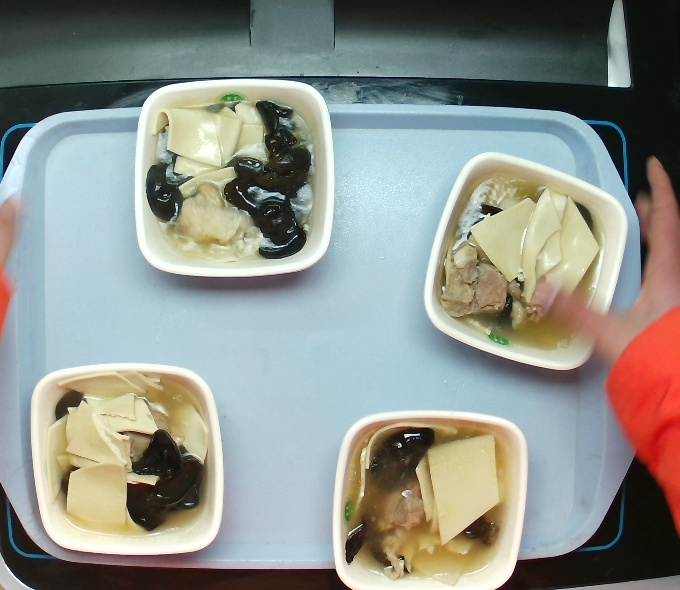wcq-QianZhangMuErTang: (428, 158, 626, 361), (30, 357, 232, 554), (141, 86, 333, 270), (338, 428, 519, 566)
